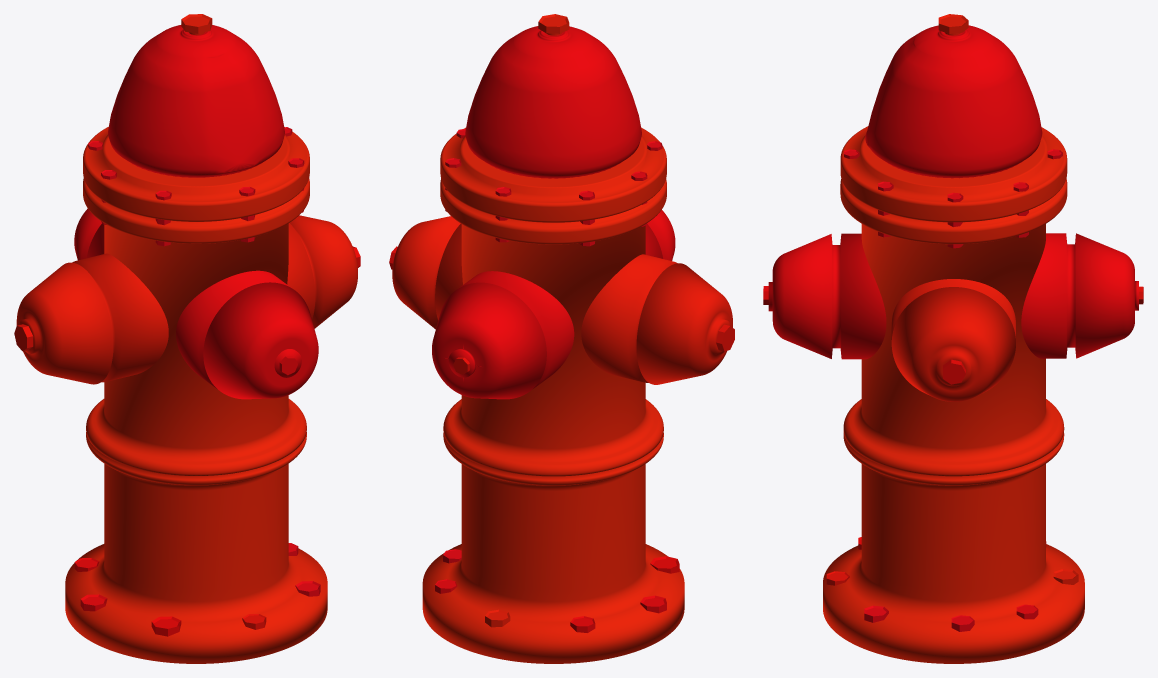
Rendered from hidrante_de_agua.glb.
The picture shows the model from 3 angles, left to right: view 1: azimuth 30°, elevation 25°; view 2: azimuth 150°, elevation 25°; view 3: azimuth 270°, elevation 25°; orthographic projection.
Visible parts, largest first — view 1: Object_2, Object_16, Object_3, Object_4, Object_17, Object_18, Object_9; view 2: Object_2, Object_16, Object_3, Object_4, Object_17, Object_18; view 3: Object_2, Object_4, Object_16, Object_3, Object_17, Object_18.
Boxes of the visible parts, x1=… form: Object_2: x1=65, y1=127, x2=327, y2=663; Object_16: x1=108, y1=25, x2=284, y2=177; Object_3: x1=16, y1=215, x2=357, y2=384; Object_4: x1=74, y1=208, x2=318, y2=399; Object_17: x1=88, y1=127, x2=320, y2=596; Object_18: x1=181, y1=14, x2=212, y2=35; Object_9: x1=151, y1=616, x2=181, y2=636; Object_2: x1=422, y1=127, x2=684, y2=663; Object_16: x1=465, y1=26, x2=641, y2=178; Object_3: x1=392, y1=216, x2=732, y2=384; Object_4: x1=432, y1=210, x2=675, y2=399; Object_17: x1=445, y1=128, x2=662, y2=246; Object_18: x1=485, y1=14, x2=569, y2=627; Object_2: x1=823, y1=126, x2=1084, y2=663; Object_4: x1=768, y1=233, x2=1138, y2=359; Object_16: x1=865, y1=25, x2=1042, y2=178; Object_3: x1=891, y1=279, x2=1015, y2=401; Object_17: x1=844, y1=149, x2=1062, y2=622; Object_18: x1=938, y1=14, x2=1078, y2=584.
Bounding box in the file's own units: 6.28 × 10.56 × 6.19.
